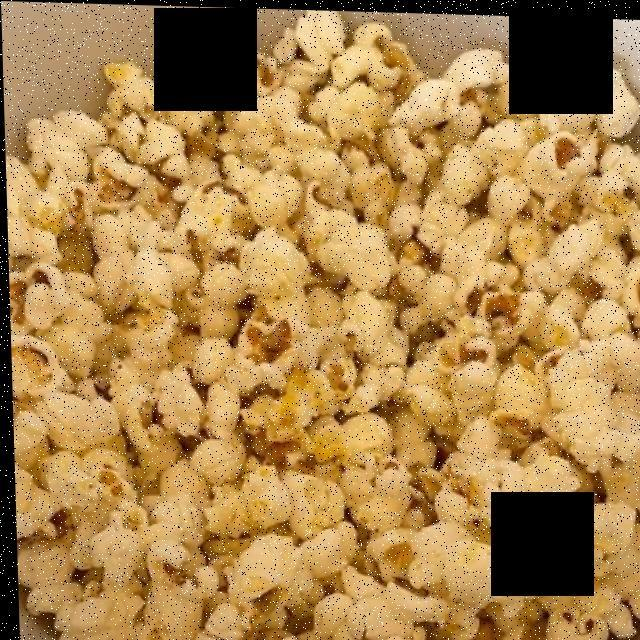popcorn-salted: (12, 26, 640, 640)
